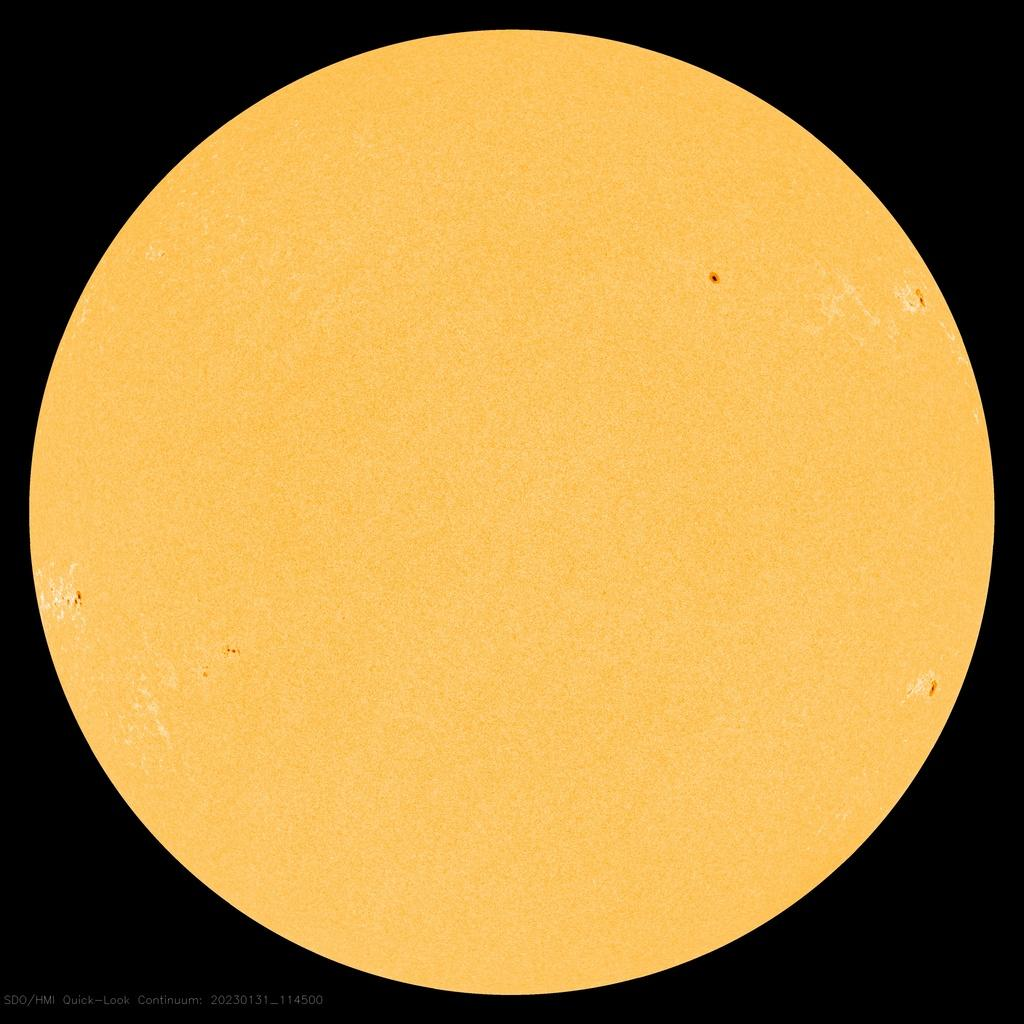flare: (198, 641, 245, 687), (55, 581, 91, 617), (698, 261, 732, 296), (908, 277, 935, 314), (925, 674, 944, 705)
